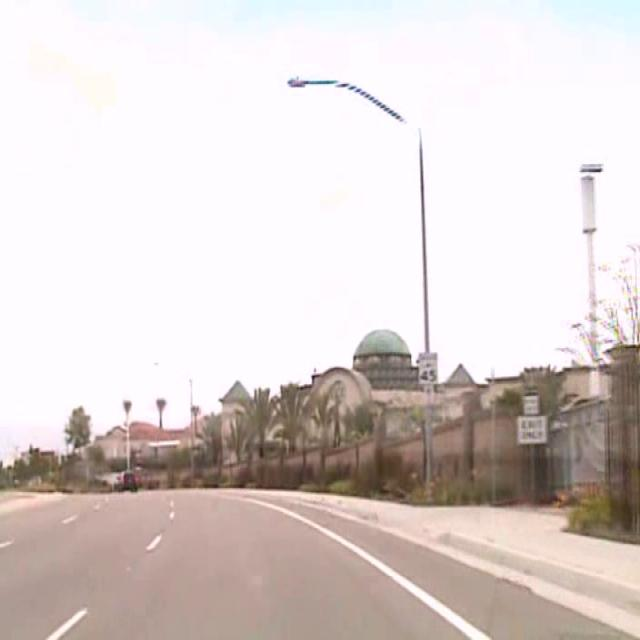speedLimit45: (417, 351, 438, 384)
